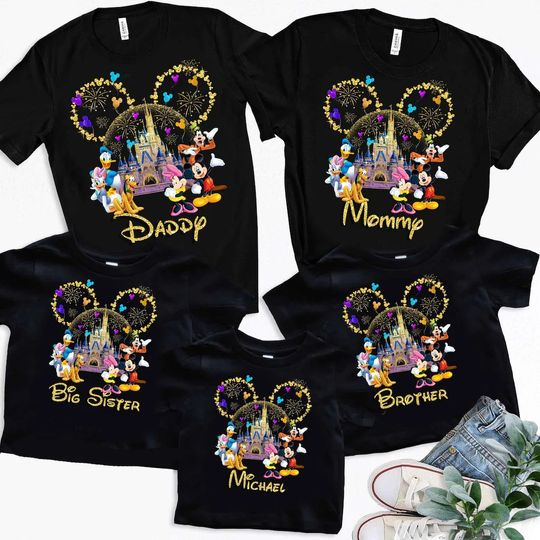design: (66, 56, 230, 246), (318, 70, 457, 243), (339, 271, 461, 412), (43, 274, 160, 415), (209, 371, 315, 495)
